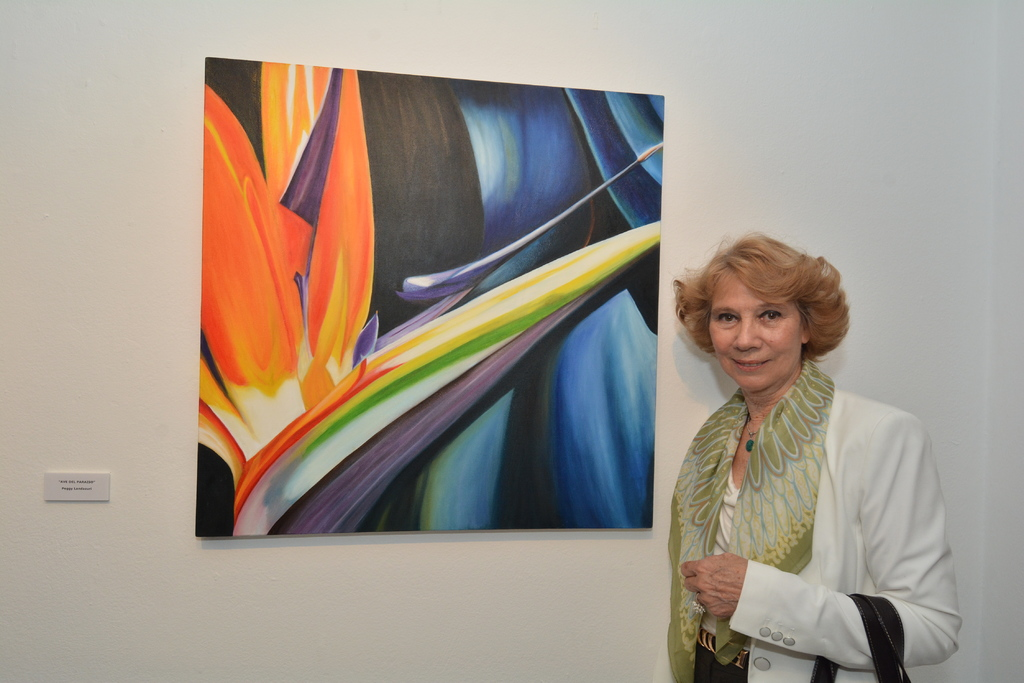Human_hand: (689, 551, 762, 632)
